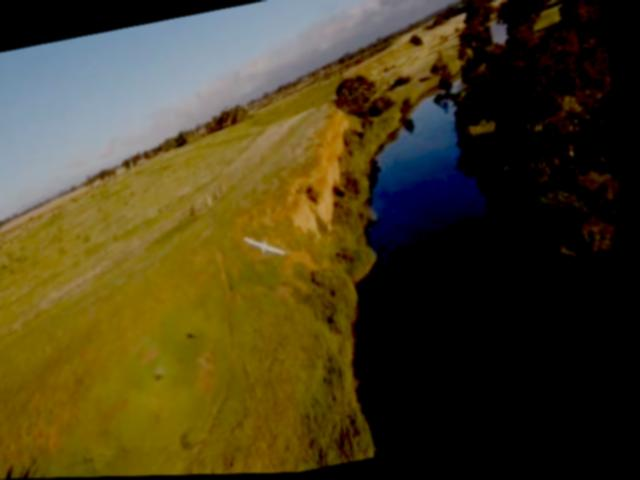uav: (245, 229, 294, 265)
